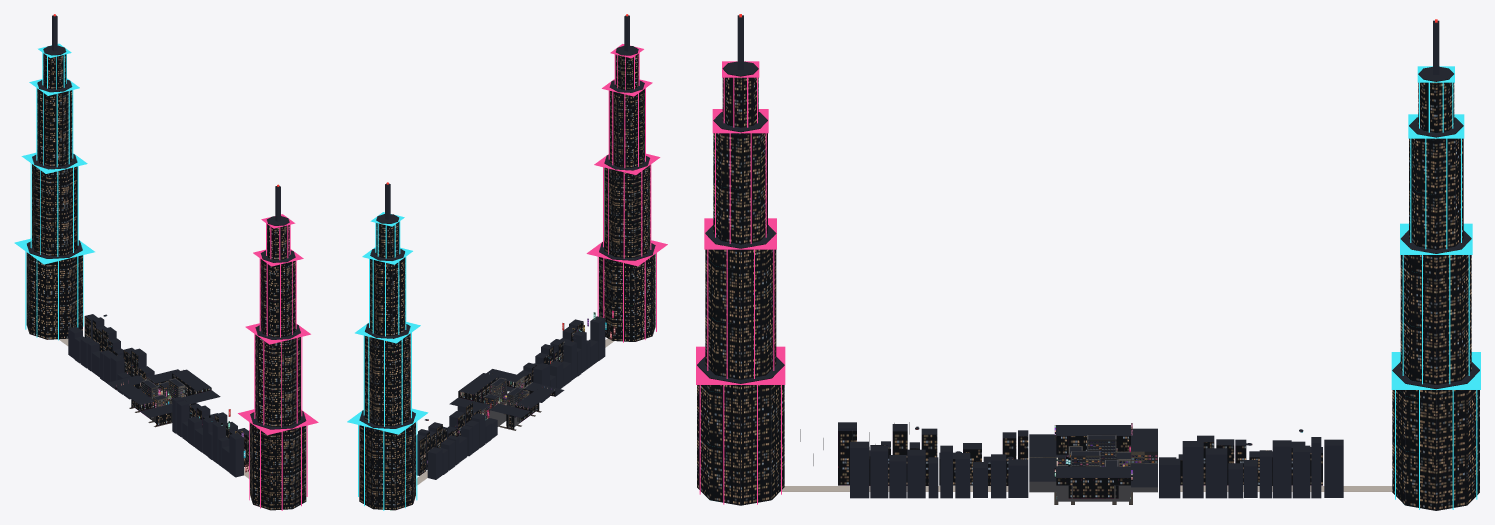
The model's file is neon-kaido.glb.
3 views of the same model, side by side, from view 1: azimuth 30°, elevation 25°; view 2: azimuth 150°, elevation 25°; view 3: azimuth 270°, elevation 25° (orthographic). The views are drawn at different scales.
Visible parts, largest first — view 1: torre-neon-fosco-torre, torre-neon-fosco-torre.001, fundo-neon-fosco-fundo, torre-quinas, torre-quinas.001, fundo-neon-fosco-janelas, torre-corpo, torre-corpo.001, estatico; view 2: torre-neon-fosco-torre.001, torre-neon-fosco-torre, fundo-neon-fosco-fundo, torre-quinas.001, torre-quinas, fundo-neon-fosco-janelas, torre-corpo.001, torre-corpo, estatico, recorte-neon-fosco-janelas; view 3: torre-neon-fosco-torre, torre-neon-fosco-torre.001, fundo-neon-fosco-fundo, fundo-neon-fosco-janelas, torre-quinas, torre-quinas.001, estatico, torre-corpo.001, torre-corpo, fundo-fundo-rua.
Part boxes in pixels (bbox=[...]): torre-neon-fosco-torre: bbox=[250, 216, 306, 510]; torre-neon-fosco-torre.001: bbox=[26, 45, 82, 339]; fundo-neon-fosco-fundo: bbox=[68, 314, 249, 477]; torre-quinas: bbox=[238, 214, 318, 510]; torre-quinas.001: bbox=[14, 43, 94, 340]; fundo-neon-fosco-janelas: bbox=[84, 316, 248, 468]; torre-corpo: bbox=[250, 186, 305, 508]; torre-corpo.001: bbox=[27, 15, 82, 339]; estatico: bbox=[129, 375, 192, 427]; torre-neon-fosco-torre.001: bbox=[359, 214, 415, 510]; torre-neon-fosco-torre: bbox=[599, 46, 655, 341]; fundo-neon-fosco-fundo: bbox=[416, 316, 605, 479]; torre-quinas.001: bbox=[347, 212, 428, 510]; torre-quinas: bbox=[586, 44, 667, 342]; fundo-neon-fosco-janelas: bbox=[419, 322, 583, 475]; torre-corpo.001: bbox=[359, 183, 415, 503]; torre-corpo: bbox=[599, 15, 655, 341]; estatico: bbox=[481, 376, 541, 430]; recorte-neon-fosco-janelas: bbox=[481, 379, 528, 419]; torre-neon-fosco-torre: bbox=[697, 61, 784, 505]; torre-neon-fosco-torre.001: bbox=[1392, 66, 1479, 510]; fundo-neon-fosco-fundo: bbox=[838, 422, 1343, 498]; fundo-neon-fosco-janelas: bbox=[838, 431, 1322, 498]; torre-quinas: bbox=[696, 61, 785, 504]; torre-quinas.001: bbox=[1391, 66, 1480, 509]; estatico: bbox=[1029, 434, 1157, 504]; torre-corpo.001: bbox=[1392, 20, 1479, 510]; torre-corpo: bbox=[697, 15, 783, 505]; fundo-fundo-rua: bbox=[780, 486, 1392, 491].
Bounding box in the file's own units: 120 × 503 × 756.
36 materials, 22 textured.
